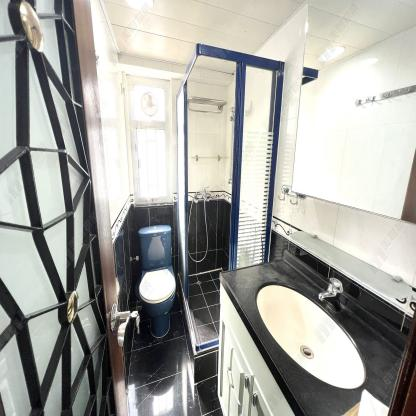Exhaust Fan: (140, 90, 161, 119)
Toilet: (136, 224, 175, 337)
Toilet Sink: (251, 283, 370, 397)
Water Cubicle: (173, 43, 286, 384)
